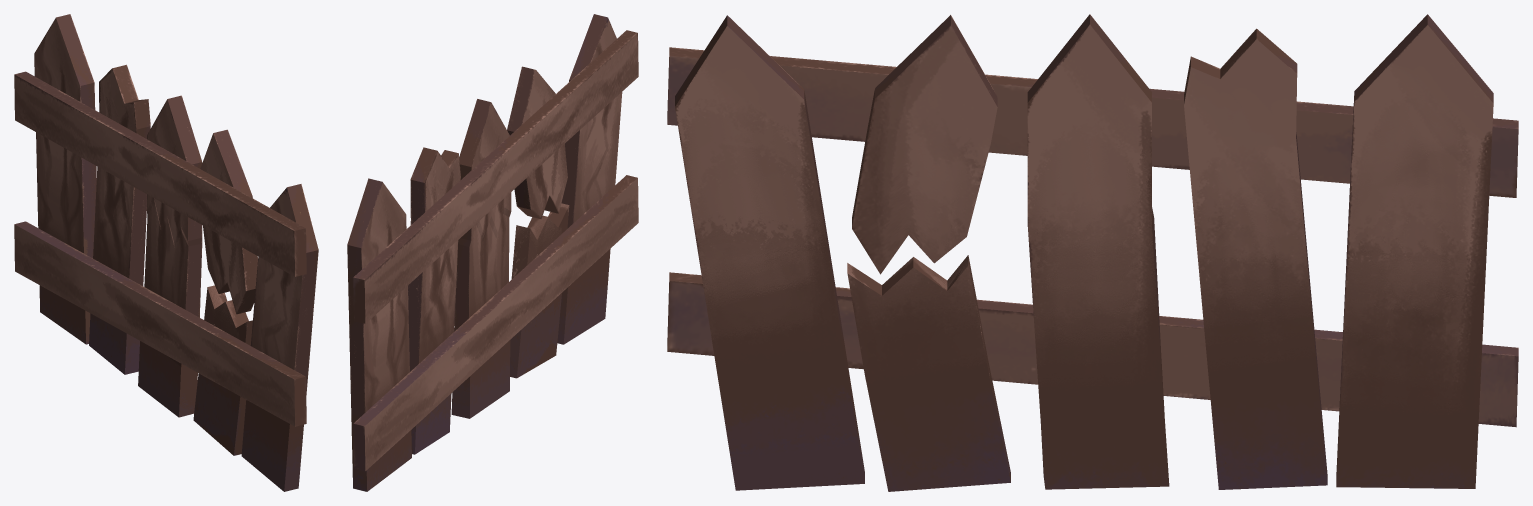
File: Fence.fbx
3 views of the same model, side by side, from view 1: azimuth 30°, elevation 25°; view 2: azimuth 150°, elevation 25°; view 3: azimuth 270°, elevation 25° (orthographic). The views are drawn at different scales.
Parts seen in each view (by area): view 1: Cube.008; view 2: Cube.008; view 3: Cube.008.
Boxes of the visible parts, bbox=[...] form: Cube.008: bbox=[14, 14, 318, 491]; Cube.008: bbox=[347, 14, 638, 491]; Cube.008: bbox=[667, 14, 1518, 491].
Bounding box in the file's own units: 176 × 15.58 × 290.
1 material, 1 textured.
